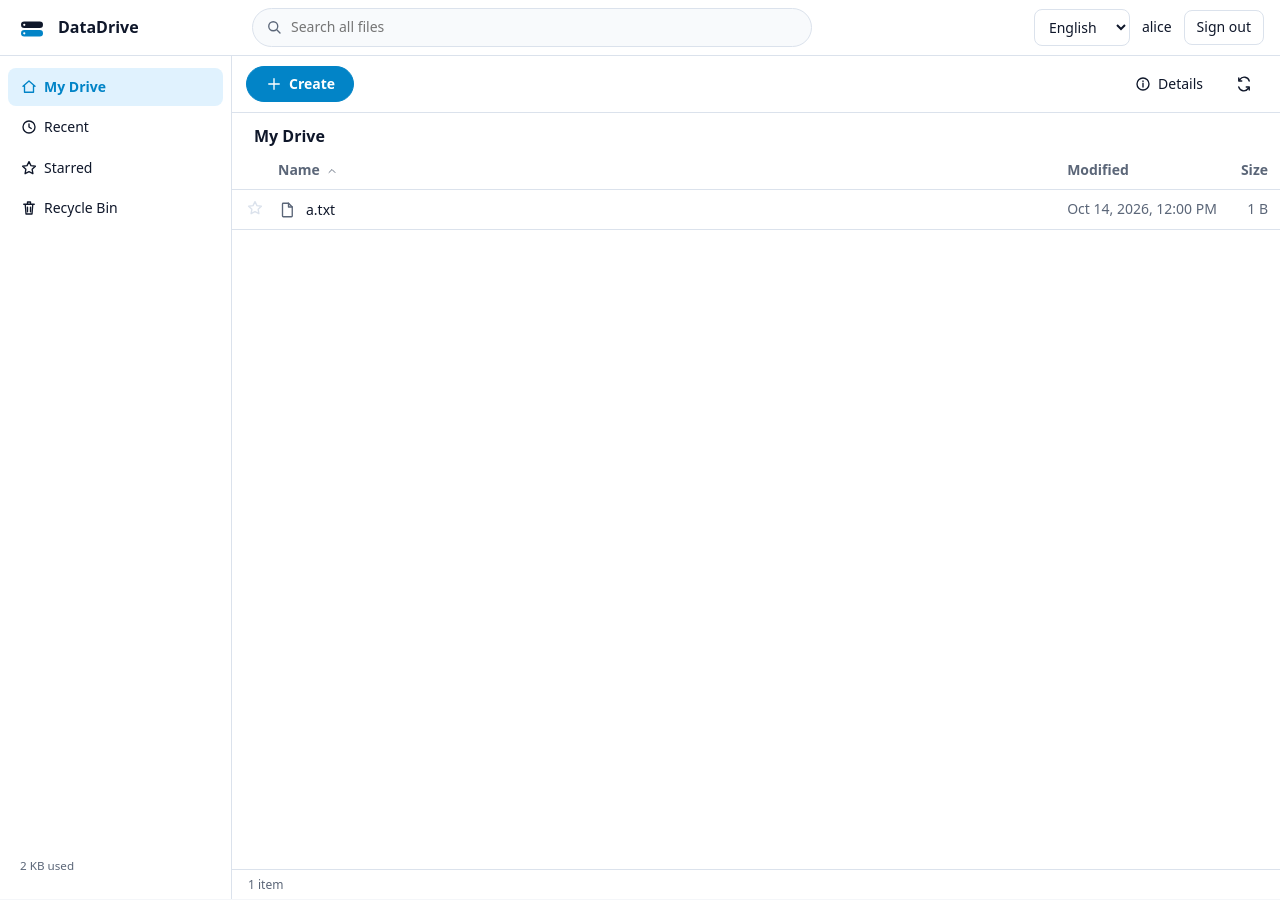
Test: search, recent and details › says so when nothing matches and returns when the search is cleared
The width and height of the screenshot is (1280, 900).
Expected: the element named "Actions" is shown, [232,56,1279,113]
Type "zzz" into the search field labelled "Search" at [545, 27], box [291,9,799,46]
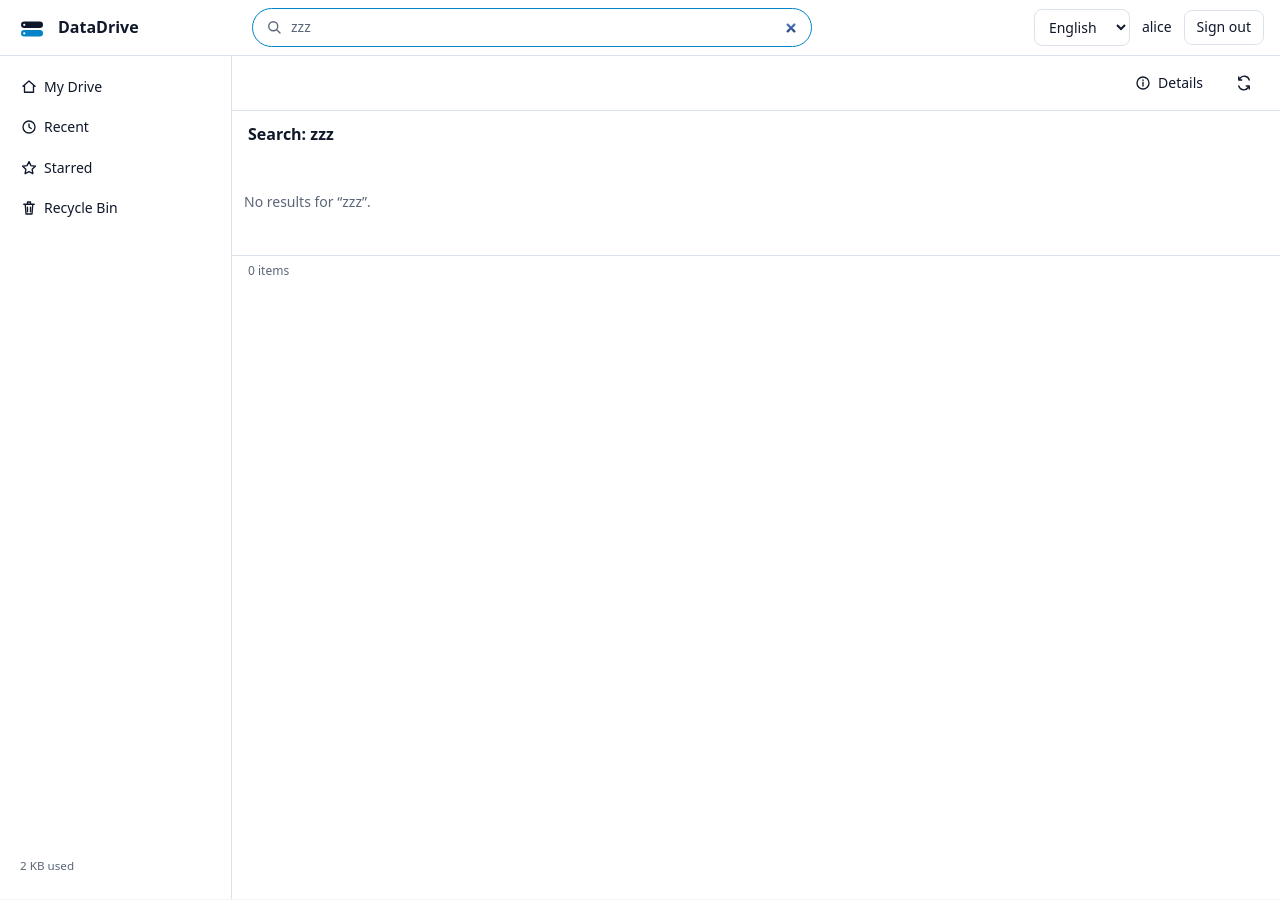
Expected: the text "No results for “zzz”." is shown, [244,192,371,212]
Clear the search field named "Search" at [545, 27], box [291,9,799,46]
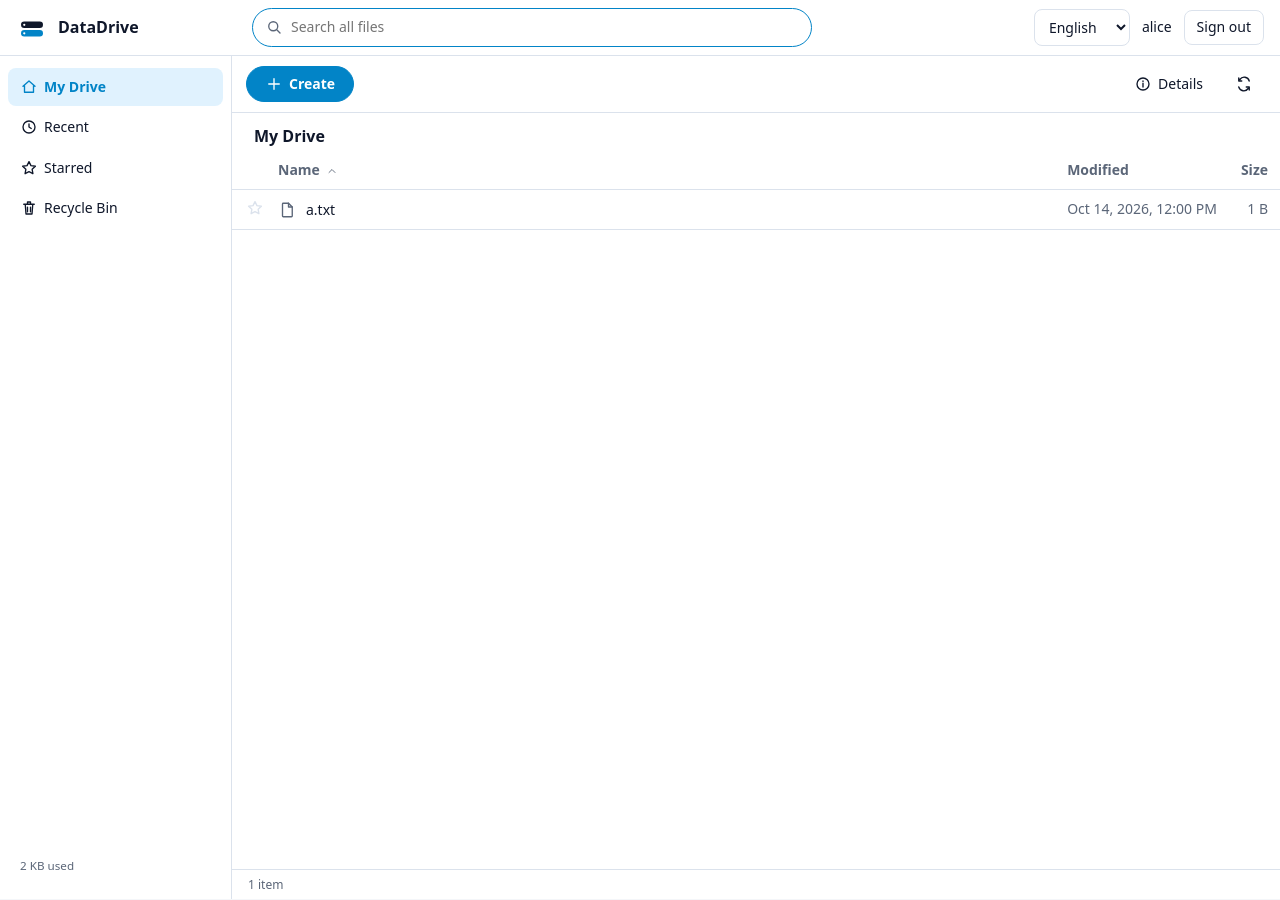
Expected: the row "a.txt Oct 14, 2026, 12:00 PM 1 B" is shown, [232,189,1279,230]
